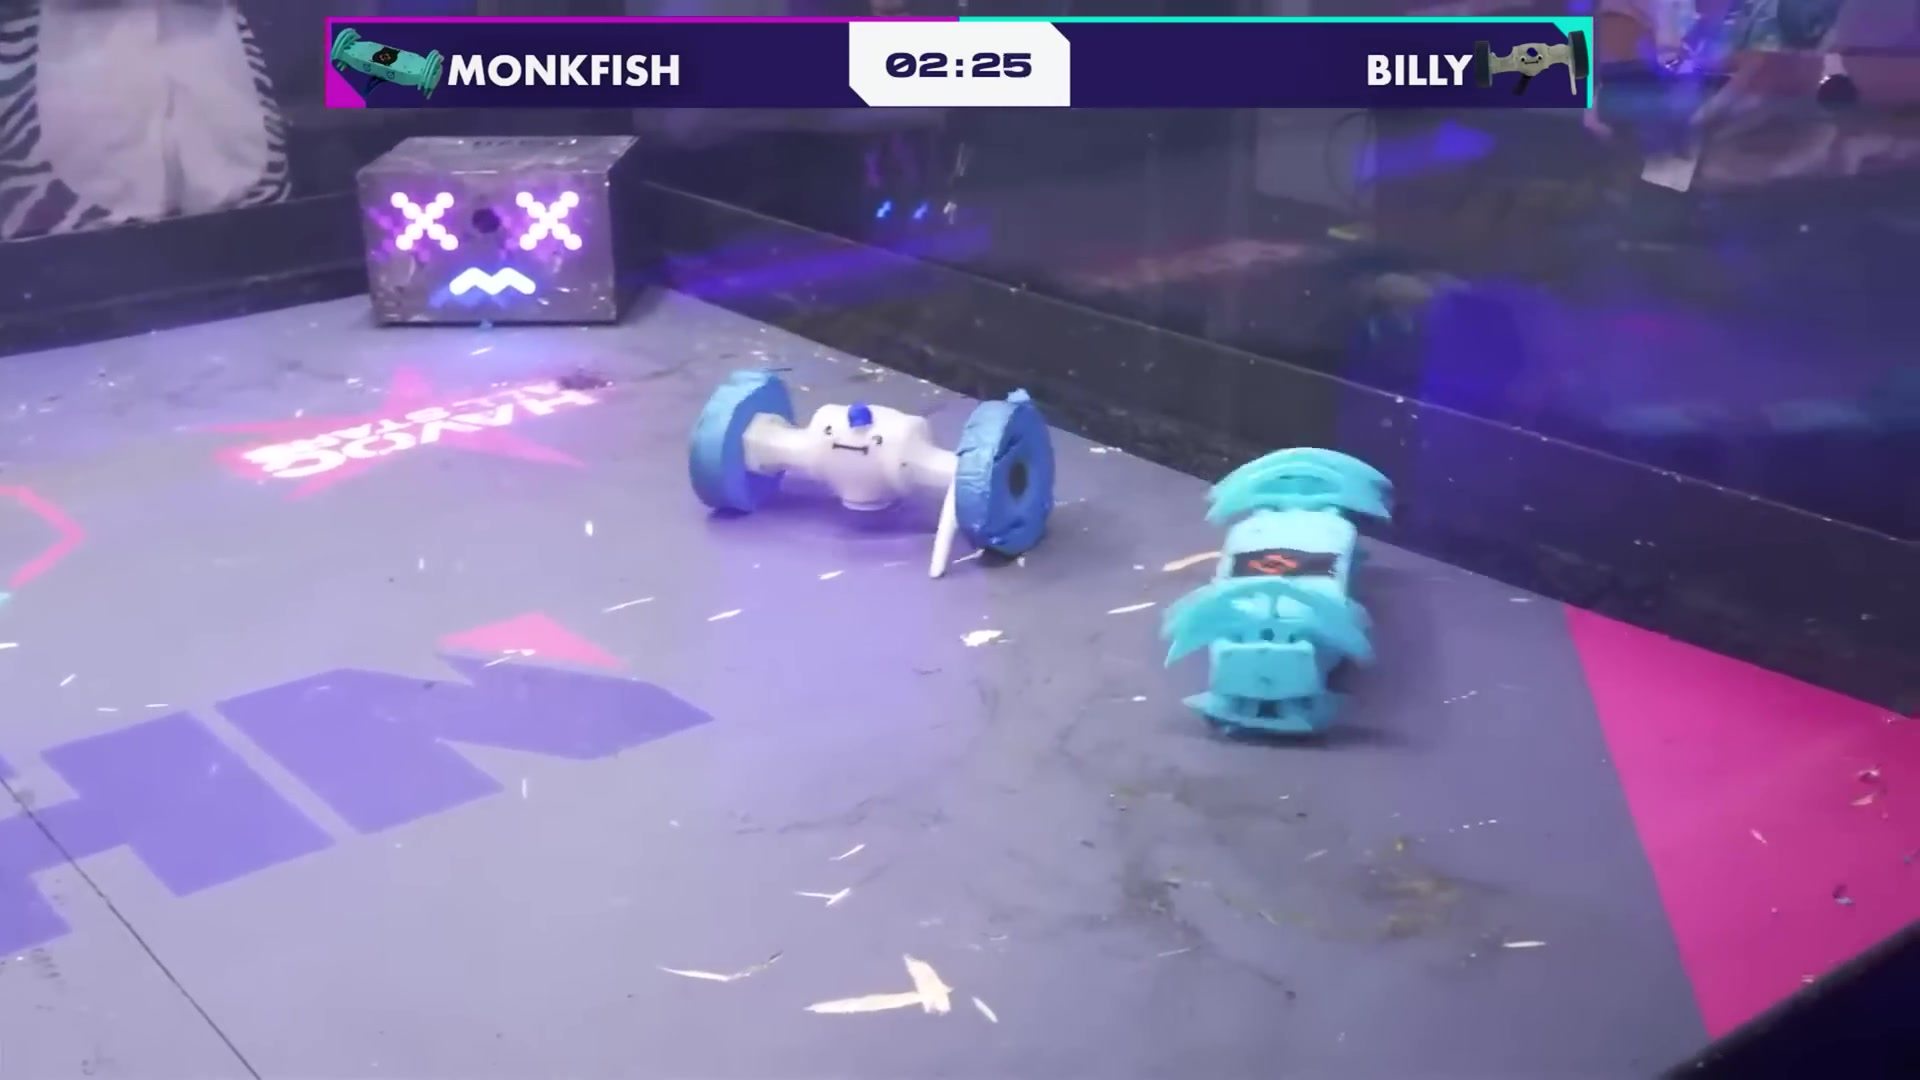combatbot: (687, 368, 1051, 576), (1155, 447, 1400, 753)
housebot: (359, 136, 647, 327)
